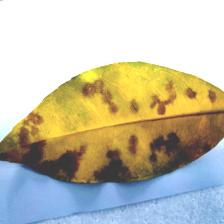black spot: (4, 80, 220, 184)
